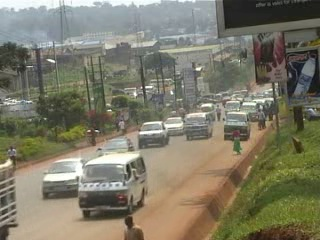Car: (40, 156, 86, 202), (95, 133, 136, 162), (161, 112, 186, 136)
Motorcycle: (176, 105, 185, 120)
